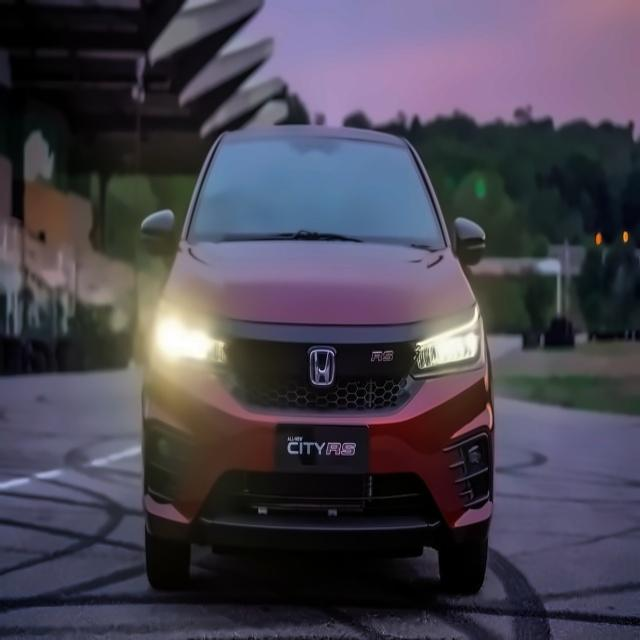Car hood: (156, 233, 481, 335)
Front bumper: (124, 397, 503, 569)
Headlight - -L-: (390, 297, 506, 391)
Headlight - -R-: (136, 305, 243, 364)
Side mirror - -L-: (426, 211, 497, 264)
Side mirror - -R-: (112, 197, 195, 259)
